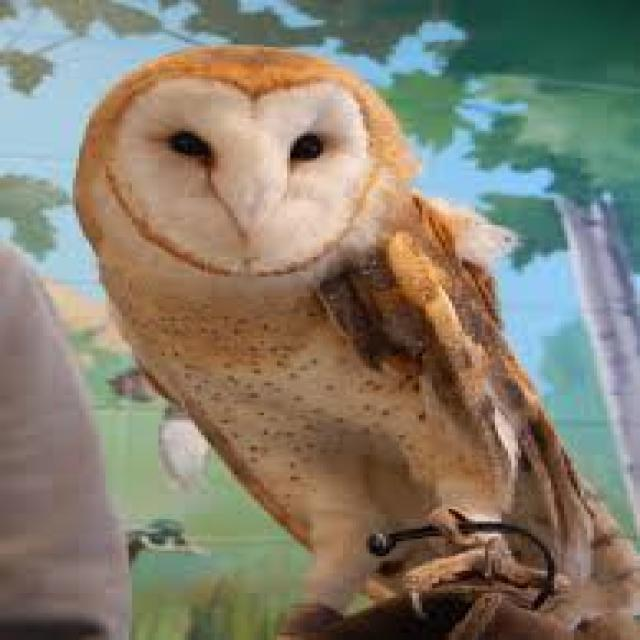Owl: (59, 37, 600, 612)
